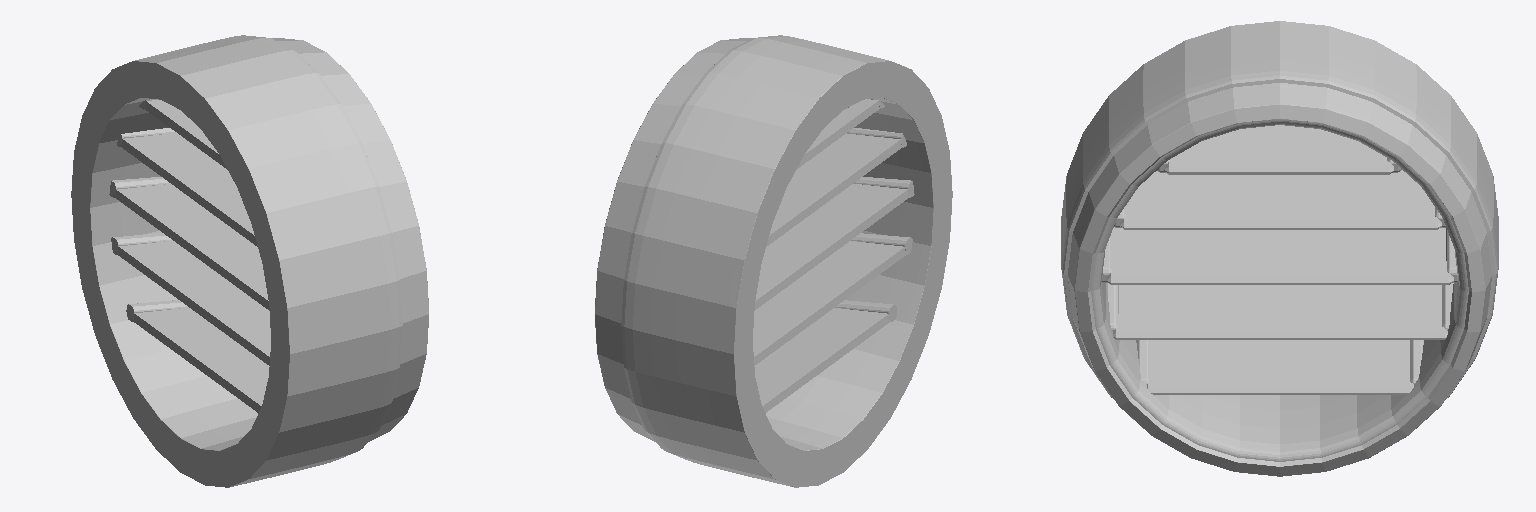
File: Vent_circle_01.obj
3 renders of one model, left to right at view 1: azimuth 30°, elevation 25°; view 2: azimuth 150°, elevation 25°; view 3: azimuth 270°, elevation 25°, orthographic.
Parts seen in each view (by area): view 1: Vent_circle_01; view 2: Vent_circle_01; view 3: Vent_circle_01.
Part boxes in pixels (bbox=[...]): Vent_circle_01: bbox=[71, 35, 428, 487]; Vent_circle_01: bbox=[595, 35, 952, 487]; Vent_circle_01: bbox=[1061, 21, 1498, 476].
Size of the model in its own units: 57.12 by 144 by 144.